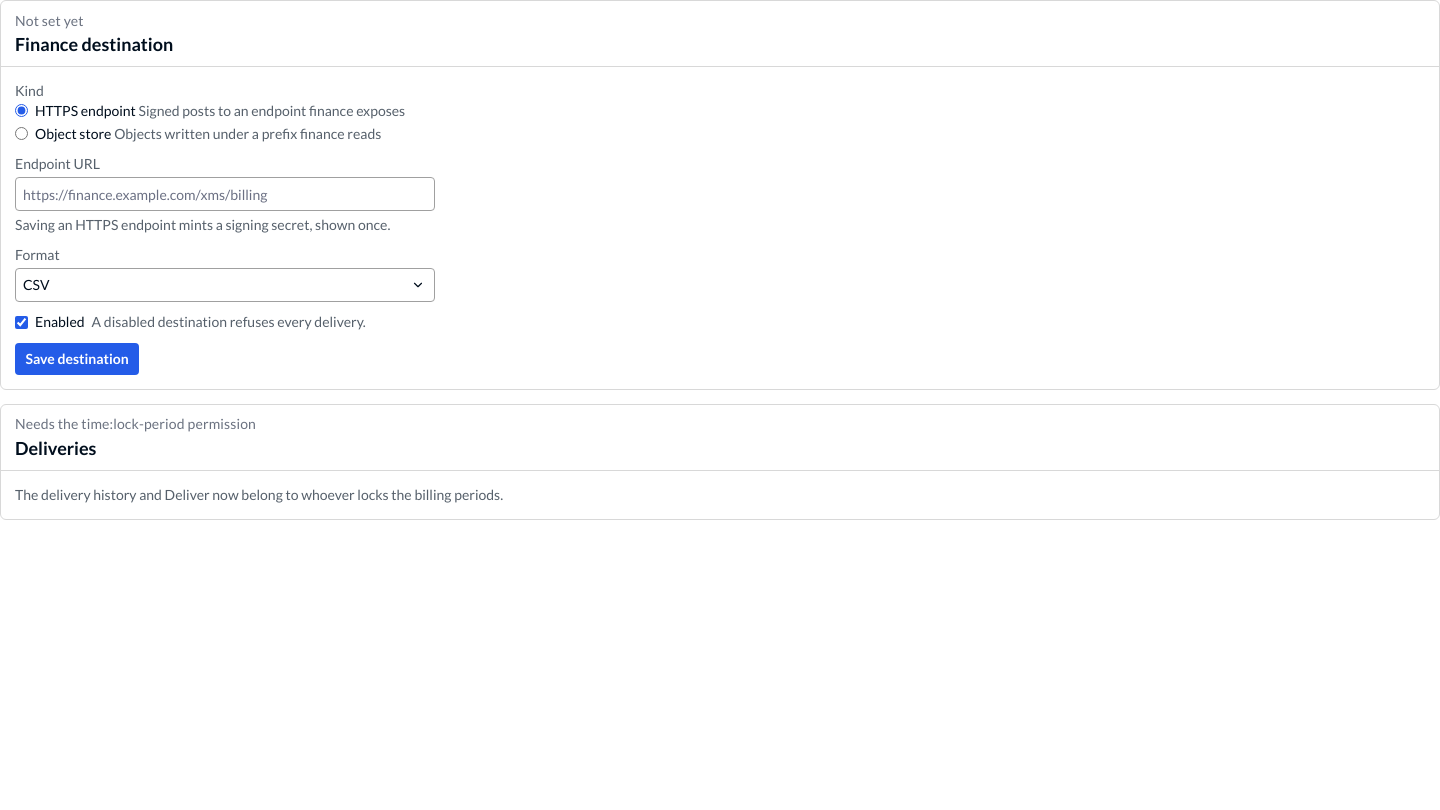
Test case: AccountFinanceTab › words the three refusals the destination route makes
Click the button "Save destination".
click(77, 358)  # box 15,342 -> 139,374
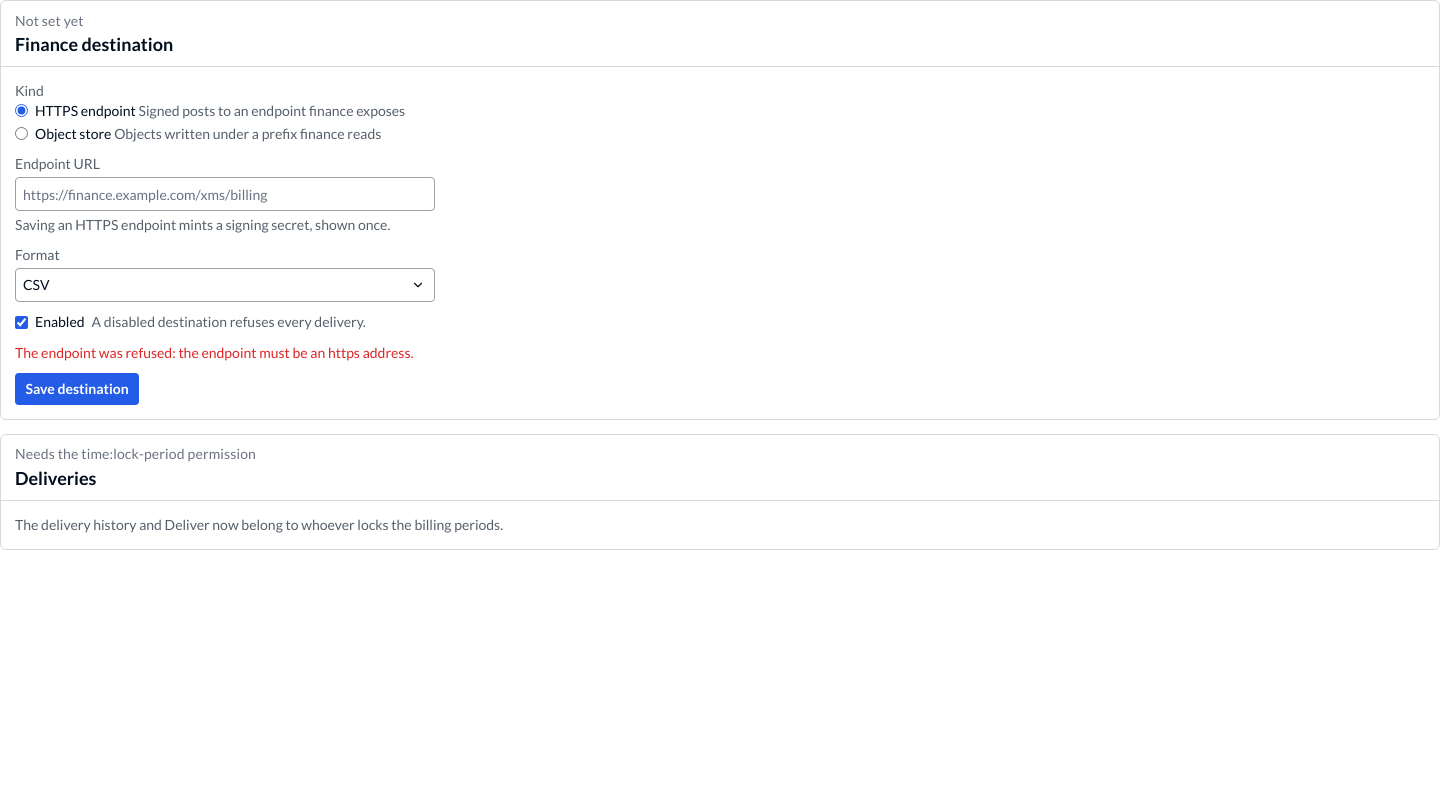
Expected: the text "The endpoint was refused: the endpoint must be an https address." is shown, 15,344 -> 414,360
Click the button "Save destination".
click(77, 389)  # box 15,373 -> 139,405
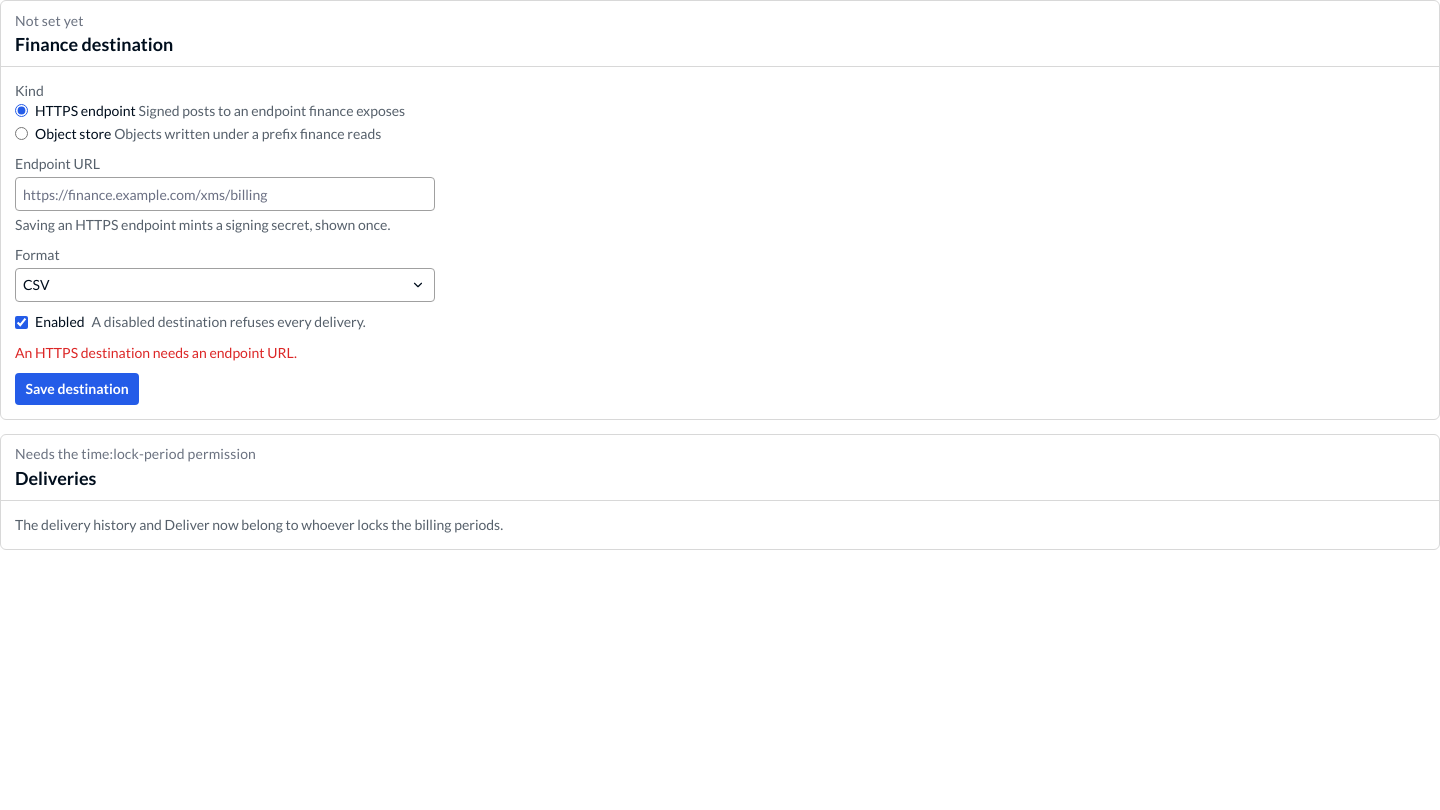
Expected: the text "An HTTPS destination needs an endpoint URL." is shown, 15,344 -> 297,360
Click the radio button labelled "Object store Objects written under a prefix finance reads".
click(22, 134)  # box 15,127 -> 28,140
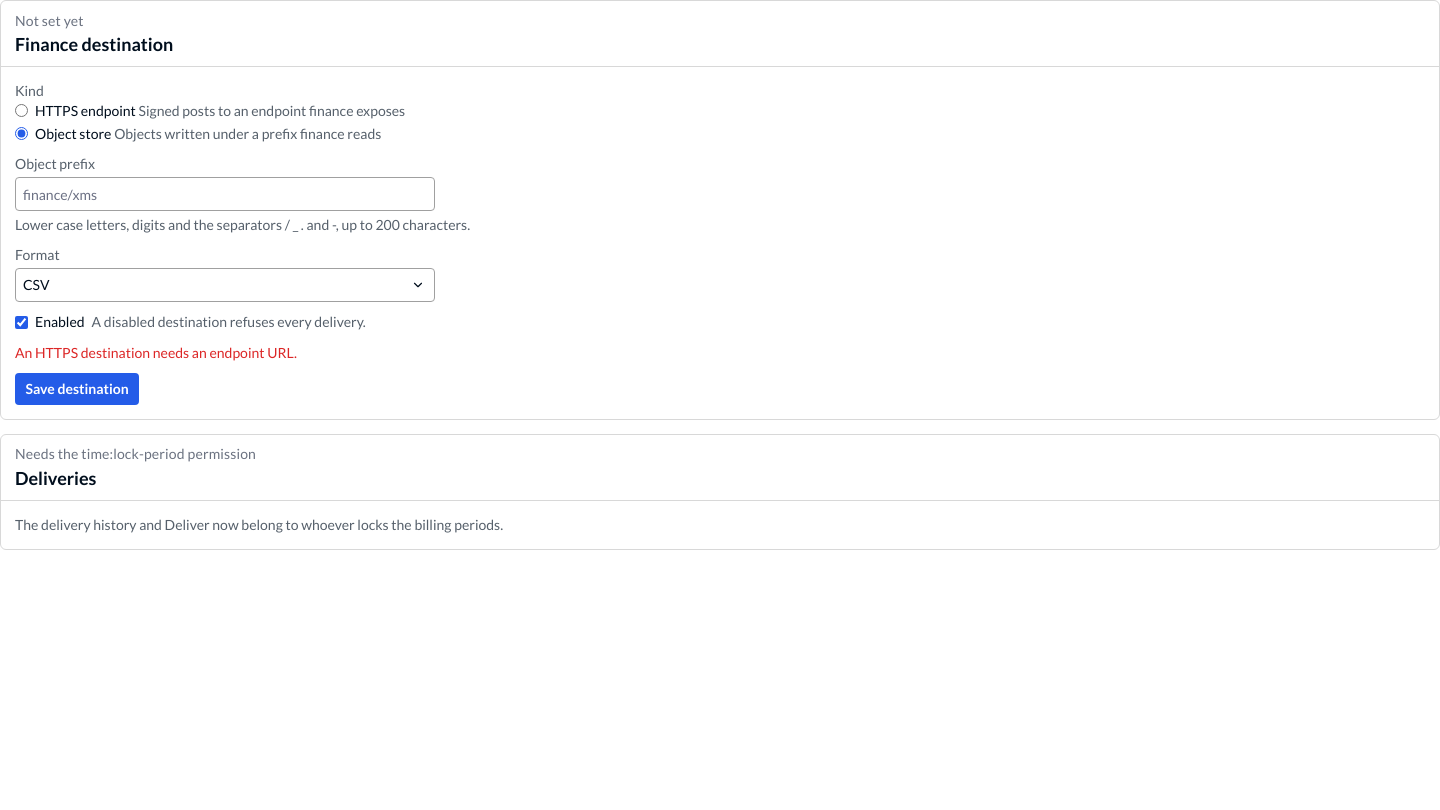
Click the button "Save destination".
click(77, 389)  # box 15,373 -> 139,405
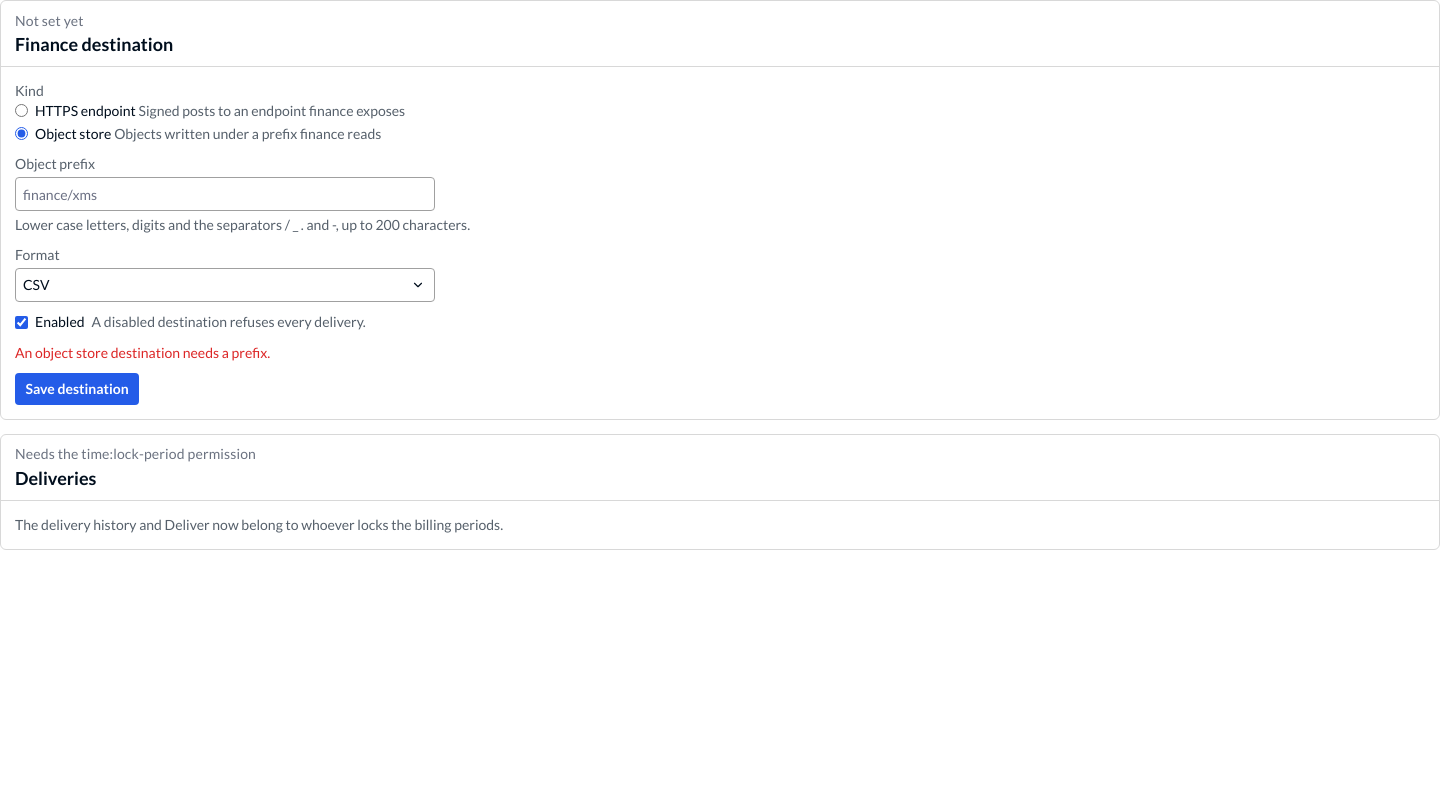
Expected: the text "An object store destination needs a prefix." is shown, 15,344 -> 270,360
